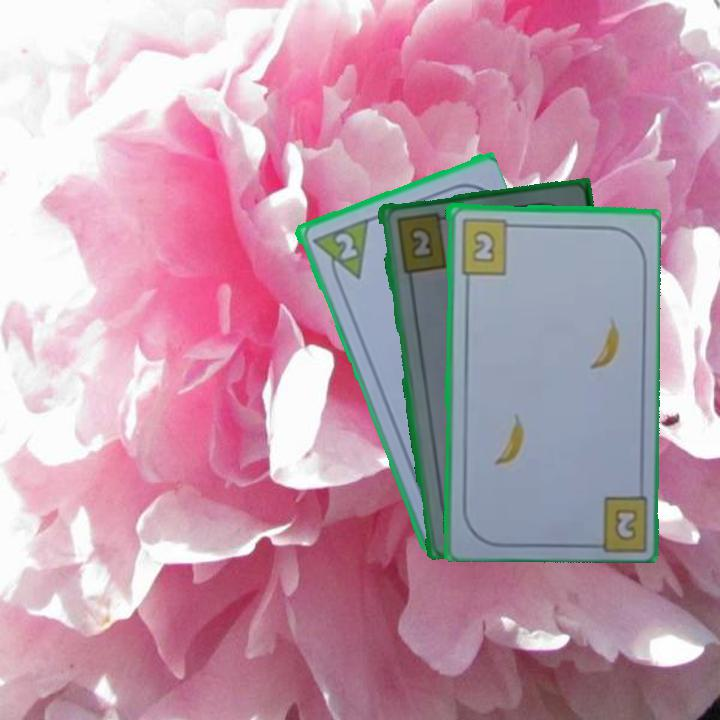2b: (392, 209, 452, 276), (457, 215, 519, 276), (613, 508, 637, 540)
2p: (307, 215, 371, 288)
